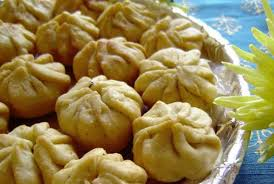modak: (126, 99, 226, 182), (62, 73, 150, 149), (138, 47, 232, 107), (2, 47, 74, 117), (70, 39, 151, 81)
